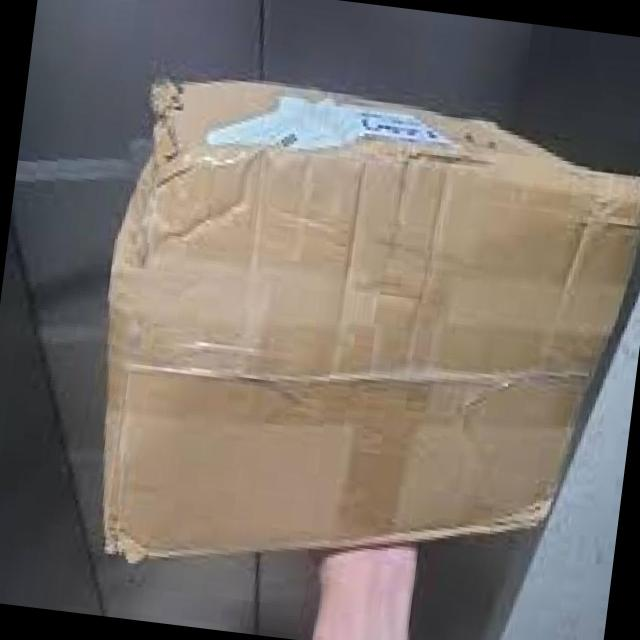box: (95, 89, 637, 566)
crushed: (105, 80, 354, 283)
